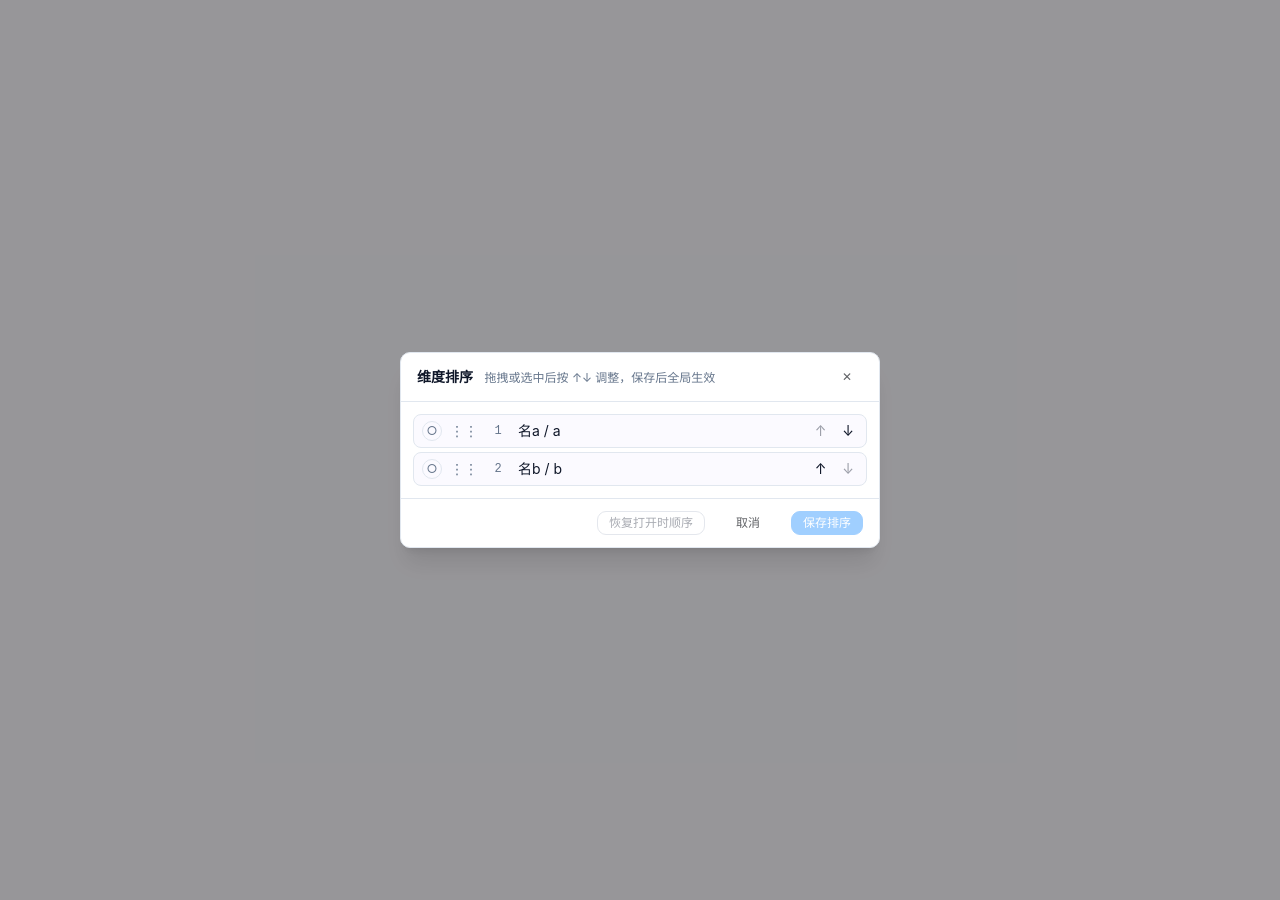
Test case: DimensionOrderDialog › 单选框：点选/再点取消，同时最多选中一个
The width and height of the screenshot is (1280, 900).
Click the button with test id "dimension-order-select-a".
click(432, 431)  # box left=422, top=421, right=442, bottom=441
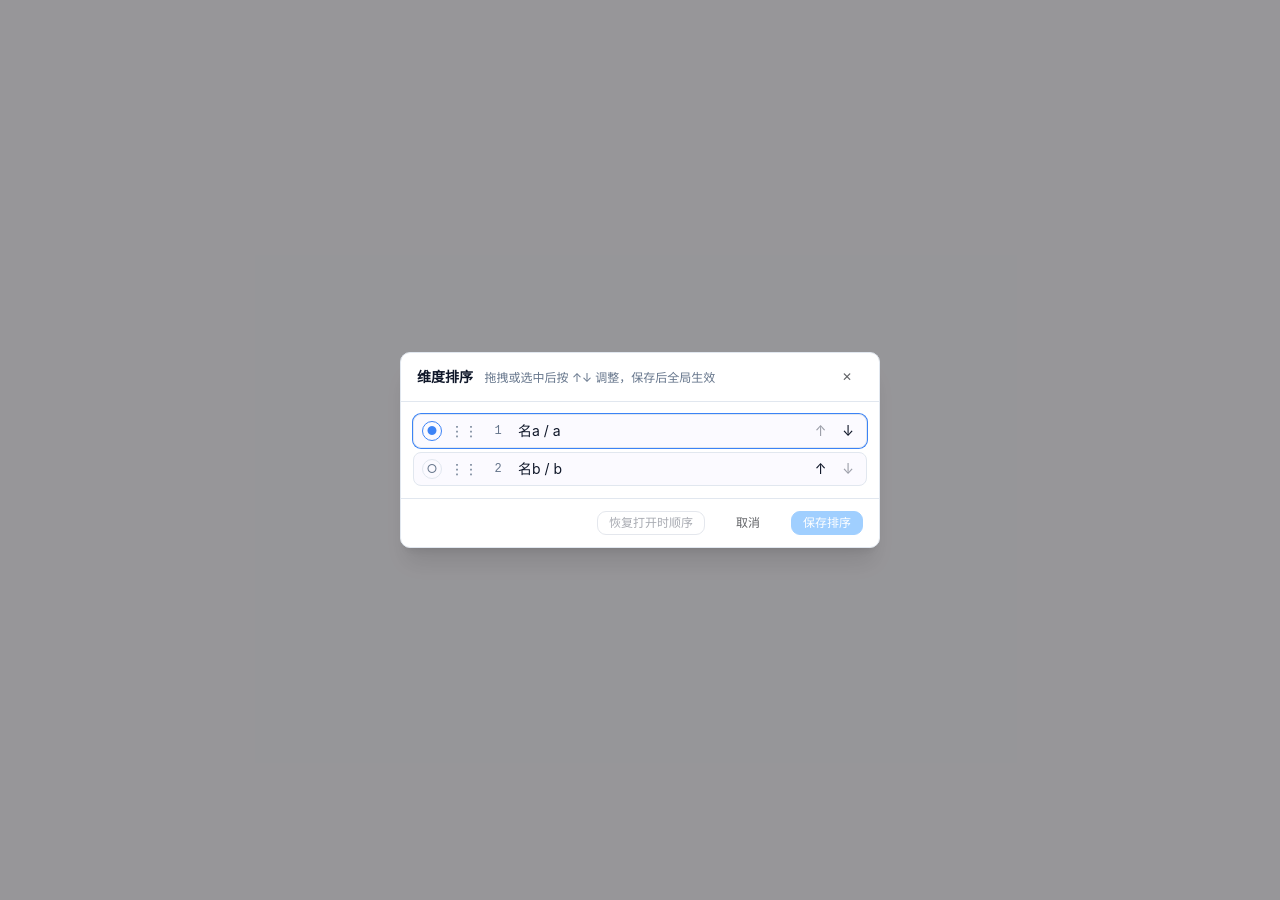
Result: the button with test id "dimension-order-select-a" reads "●" at left=422, top=421, right=442, bottom=441
Click the button with test id "dimension-order-select-b".
click(432, 469)  # box left=422, top=459, right=442, bottom=479
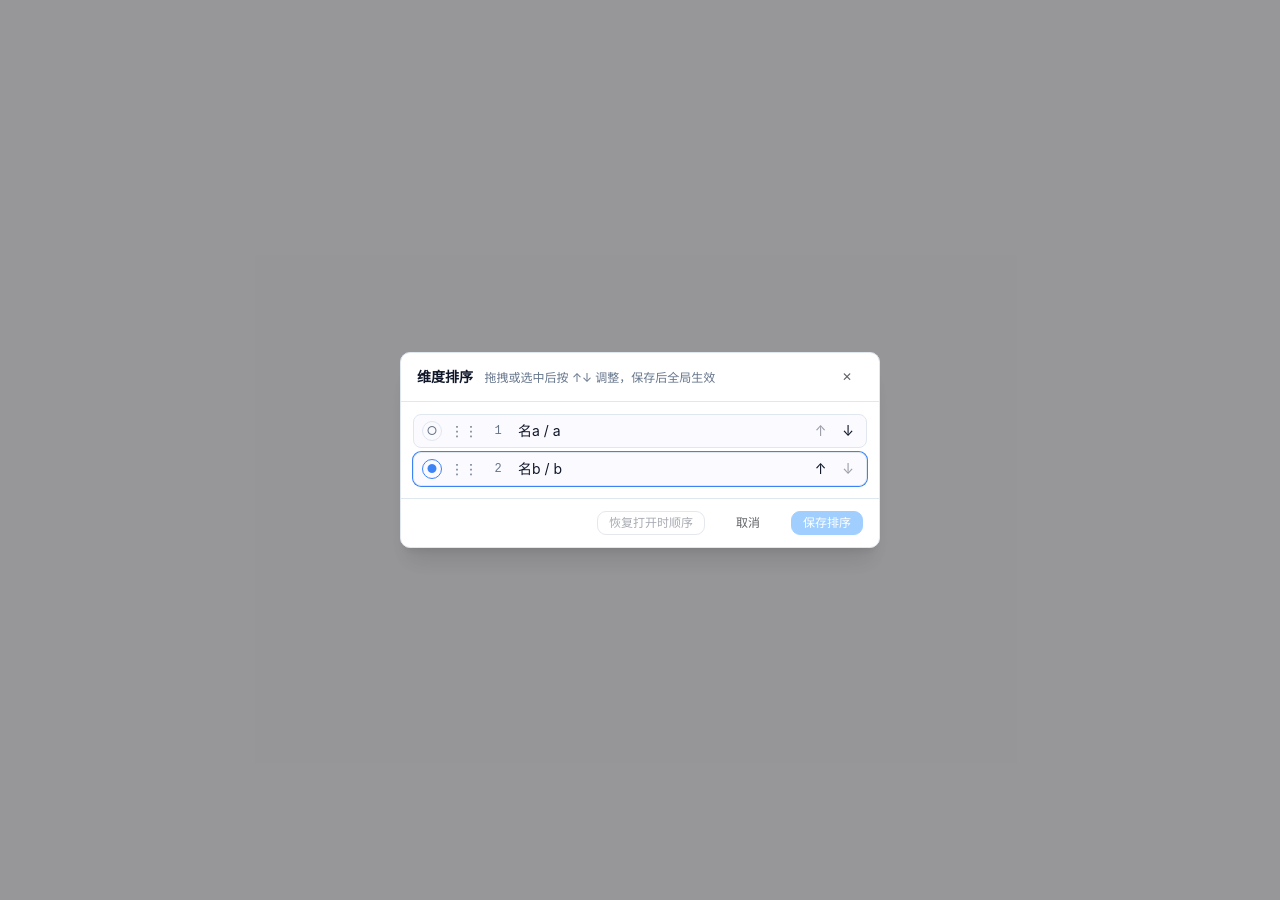
Result: the button with test id "dimension-order-select-a" reads "○" at left=422, top=421, right=442, bottom=441
Result: the button with test id "dimension-order-select-b" reads "●"
Click the button with test id "dimension-order-select-b".
click(432, 469)  # box left=422, top=459, right=442, bottom=479
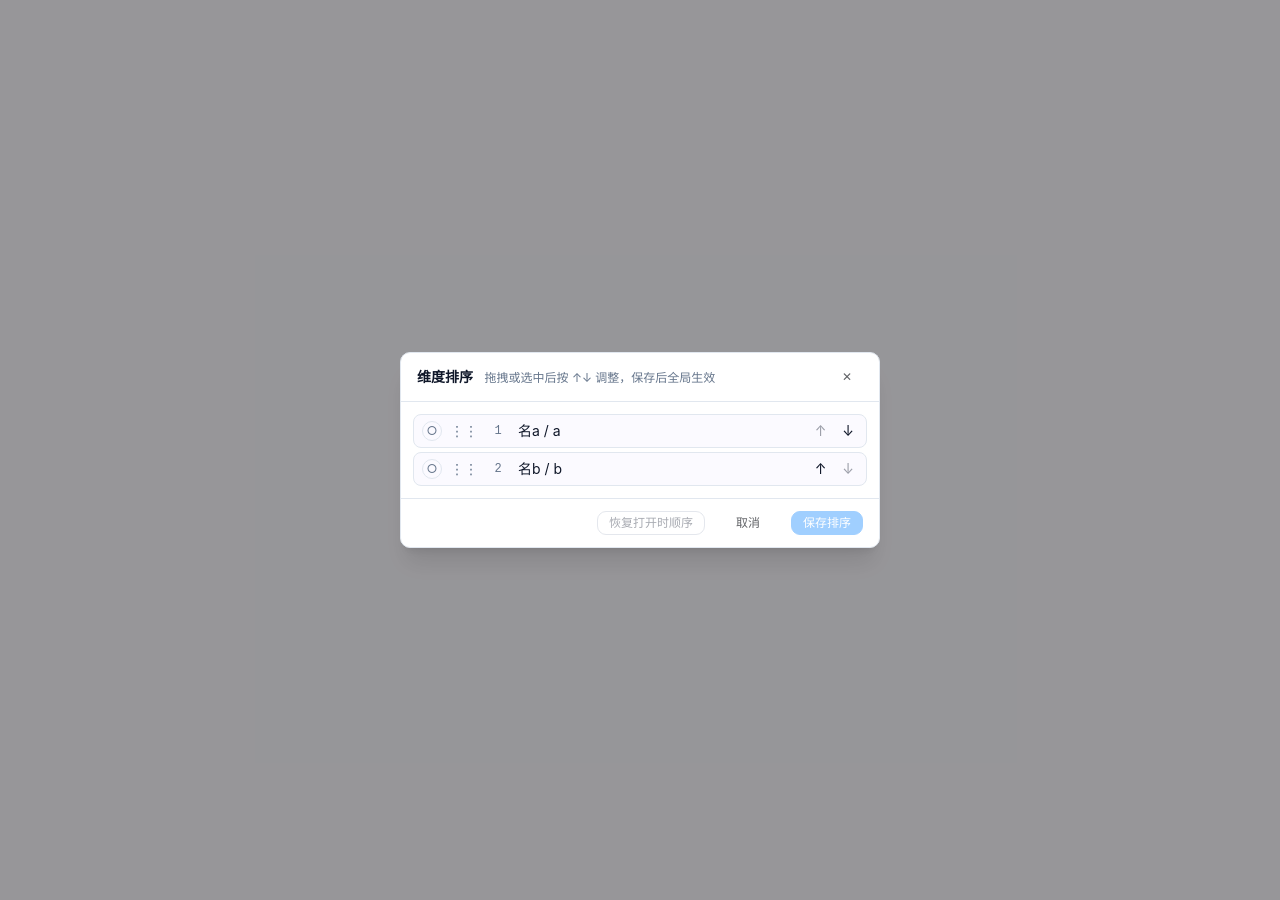
Result: the button with test id "dimension-order-select-b" reads "○" at left=422, top=459, right=442, bottom=479
